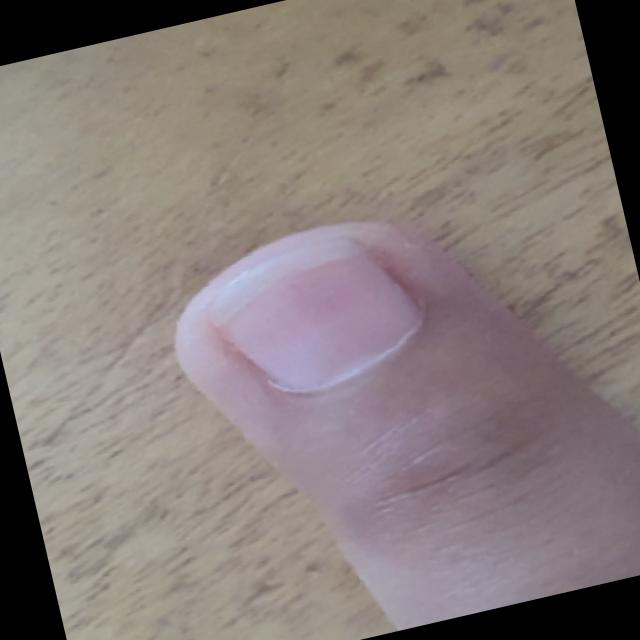Nail: (213, 238, 416, 390)
